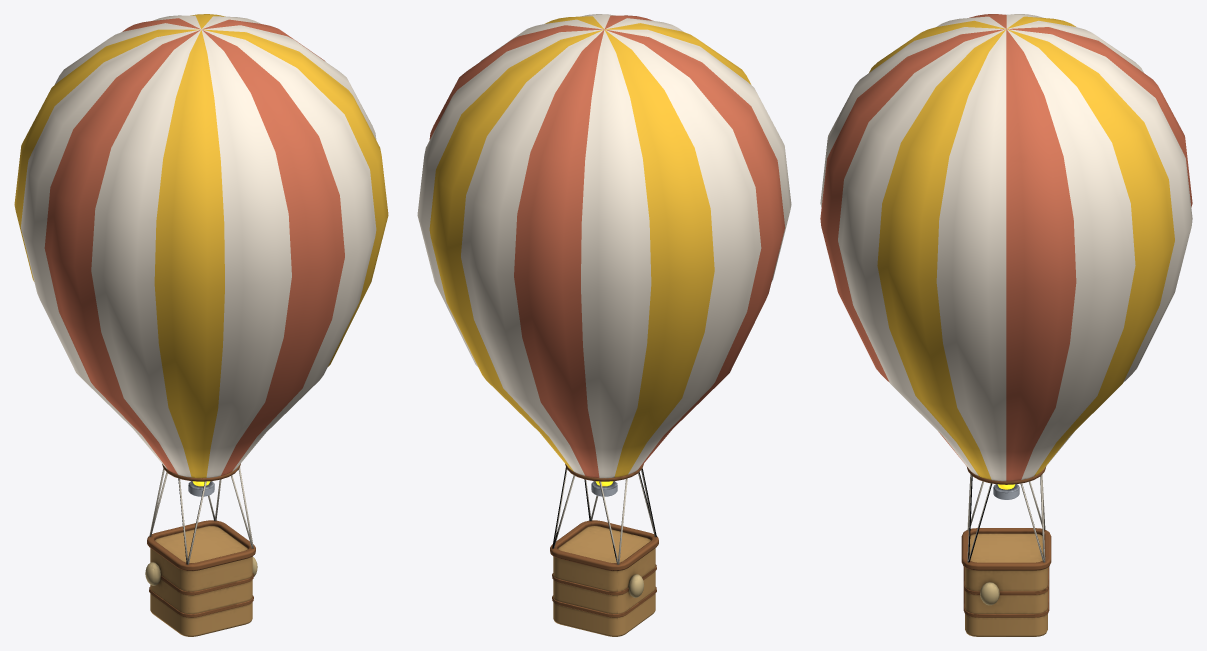
Rendered from hot_air_balloon.glb.
3 views of the same model, side by side, from view 1: azimuth 30°, elevation 25°; view 2: azimuth 150°, elevation 25°; view 3: azimuth 270°, elevation 25° (orthographic).
Visible parts, largest first — view 1: hot_air_balloon; view 2: hot_air_balloon; view 3: hot_air_balloon.
Boxes of the visible parts, x1,y1,x2,y2 form: hot_air_balloon: (14, 14, 388, 636); hot_air_balloon: (417, 14, 791, 636); hot_air_balloon: (820, 14, 1192, 636).
Size of the model in its own units: 4.49 by 7.87 by 4.49.
11 materials, 10 textured.
